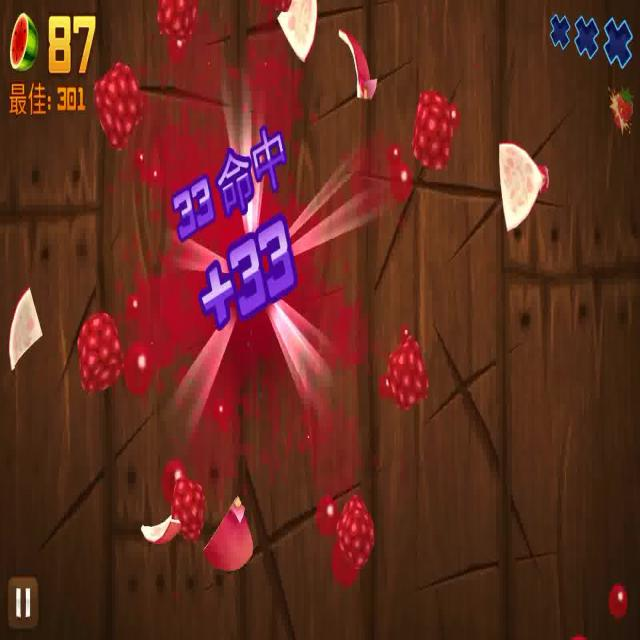fruit: (312, 490, 372, 581), (380, 325, 431, 422)
